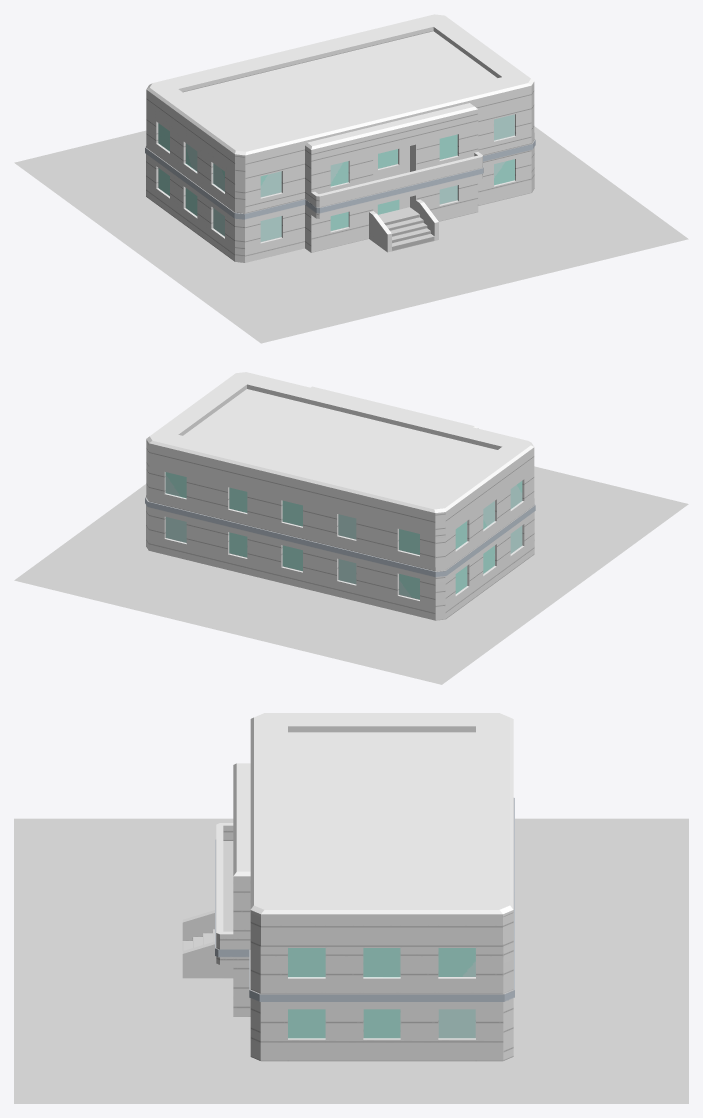
File: Bank.fbx
3 views of the same model, one above another, from view 1: azimuth 30°, elevation 25°; view 2: azimuth 150°, elevation 25°; view 3: azimuth 270°, elevation 25° (orthographic). The views are drawn at different scales.
Parts seen in each view (by area): view 1: Bank, Plane.016; view 2: Bank, Plane.016; view 3: Plane.016, Bank.
Part boxes in pixels (<box>): Bank: <box>145,14,535,262</box>; Plane.016: <box>14,126,688,343</box>; Bank: <box>145,372,535,620</box>; Plane.016: <box>14,466,688,684</box>; Plane.016: <box>14,818,688,1103</box>; Bank: <box>182,713,514,1061</box>.
Size of the model in its own units: 200 by 49 by 200.
